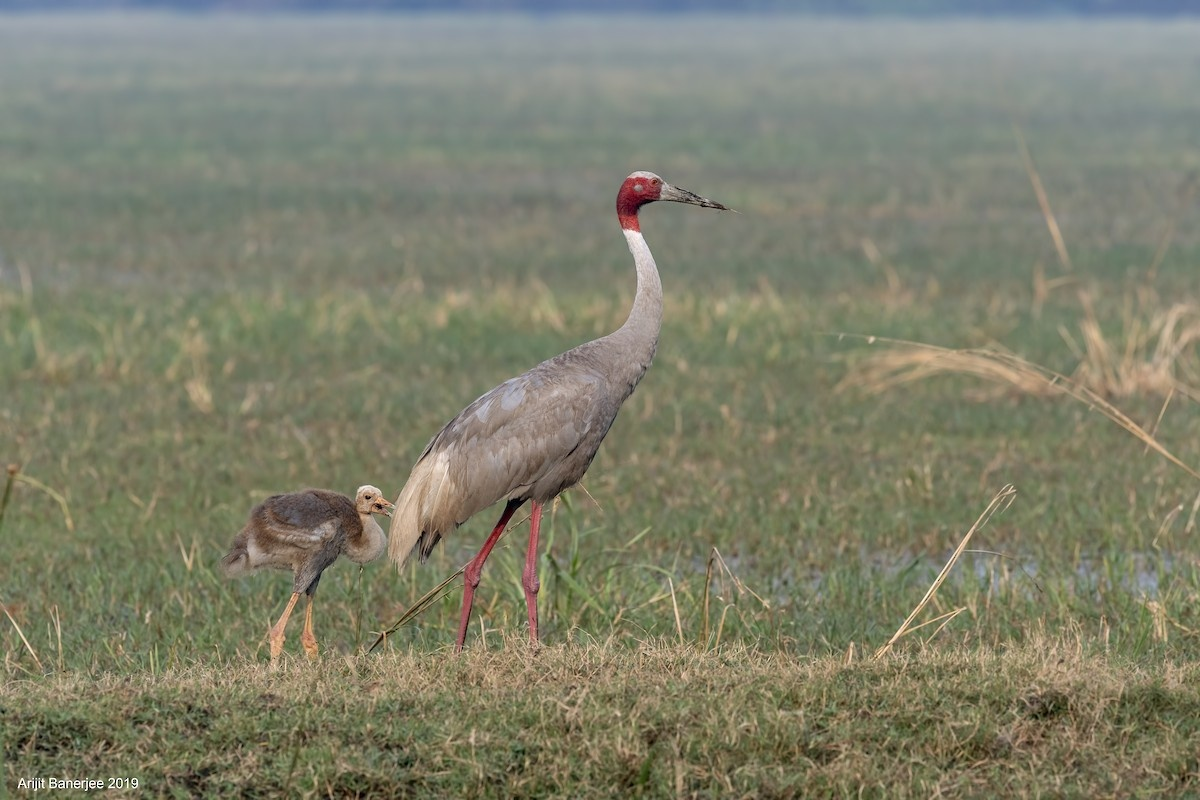crane: (395, 157, 743, 648), (236, 478, 404, 654)
